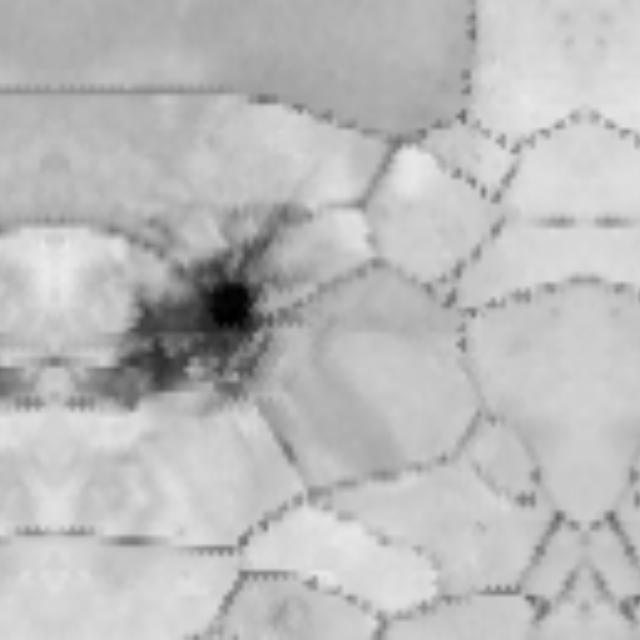good_void: (54, 203, 313, 443), (499, 465, 552, 513), (272, 434, 308, 474), (617, 465, 640, 513)
